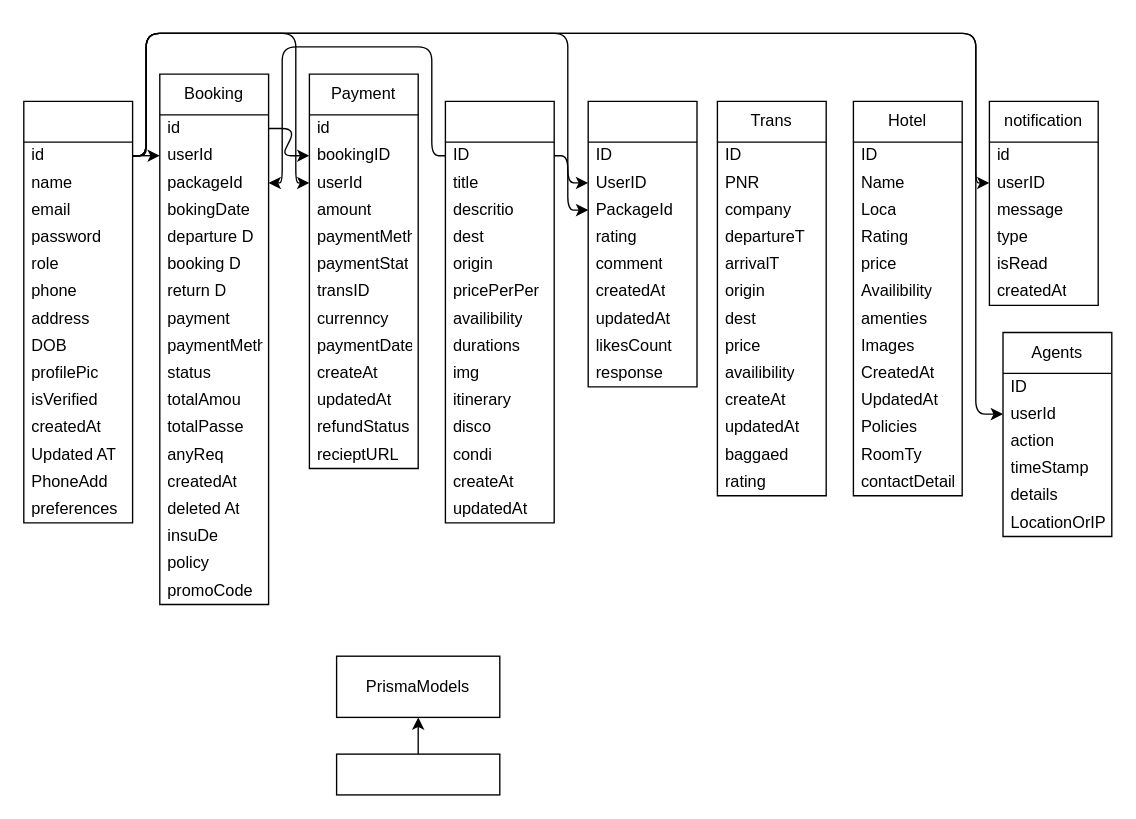
Some shapes in this 1136 by 819 pixel diagram are drawn without their labels. The box of each missing label's shape, as (x1, y1, x2, y2) in pixels:
Config files: (335, 753, 500, 795)
Package: (444, 100, 554, 523)
Review: (587, 100, 697, 387)
User: (22, 100, 133, 523)
